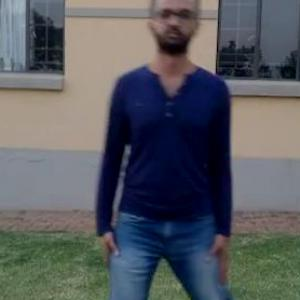follow: (90, 0, 212, 299)
